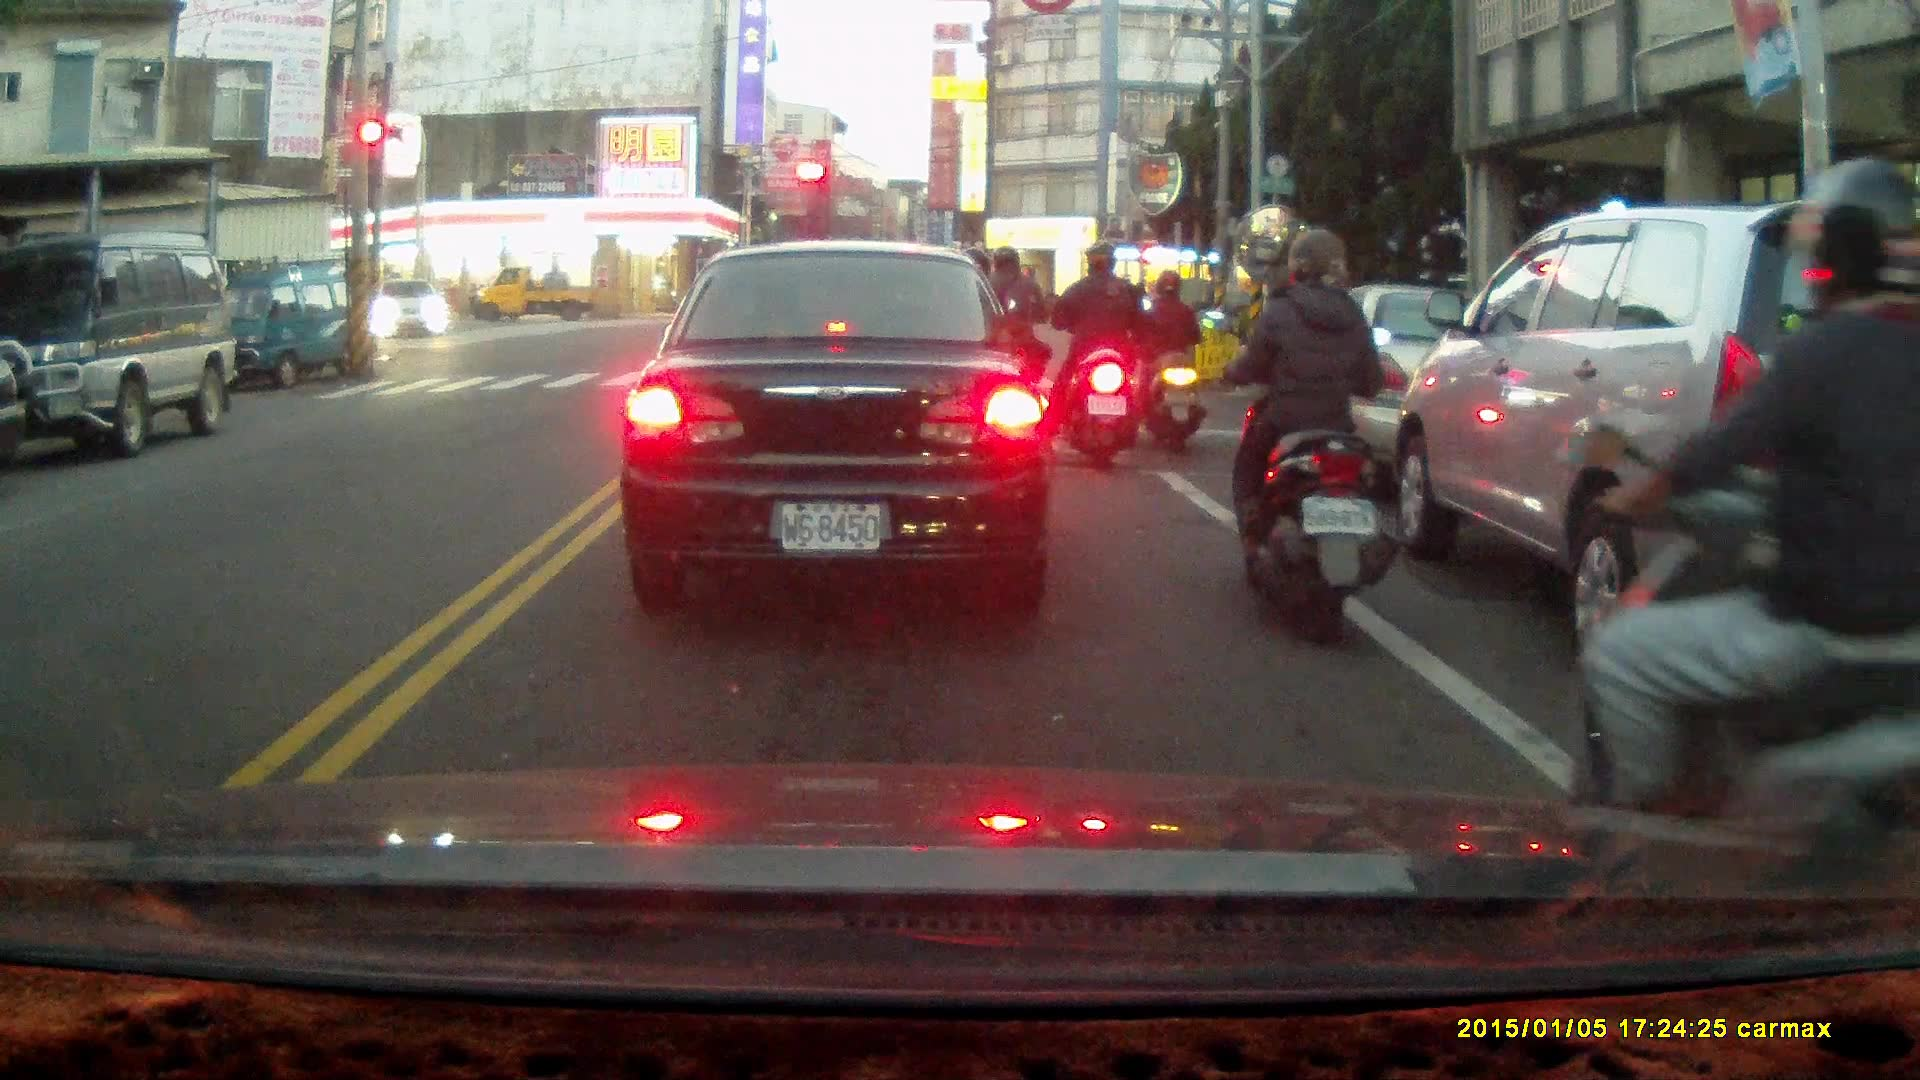rider: (1565, 152, 1920, 878), (1200, 222, 1399, 650), (1048, 243, 1141, 469), (962, 243, 1051, 445), (1134, 269, 1204, 450)
vehicle: (1381, 195, 1920, 685), (617, 243, 1061, 606), (1264, 282, 1568, 493), (1, 234, 239, 458), (194, 255, 381, 394), (469, 265, 603, 327), (372, 277, 451, 343)
